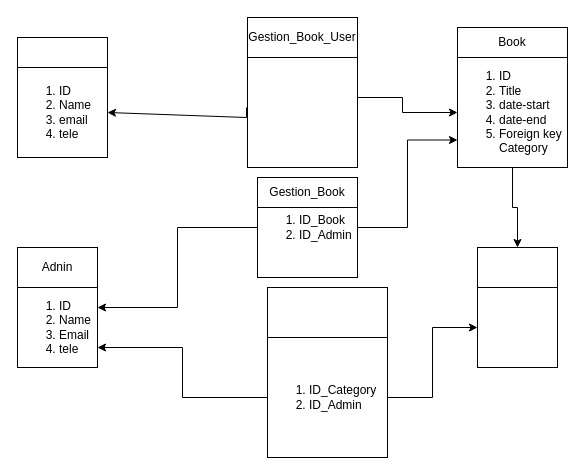
This 585x475 diagram has some shape labels left out. Each missing label, with the centre of its shape:
Category: point (517, 267)
Gestion_Category: point (327, 312)
ID Name: point (517, 327)
ID_Book ID_User: point (302, 112)
user: point (62, 52)
